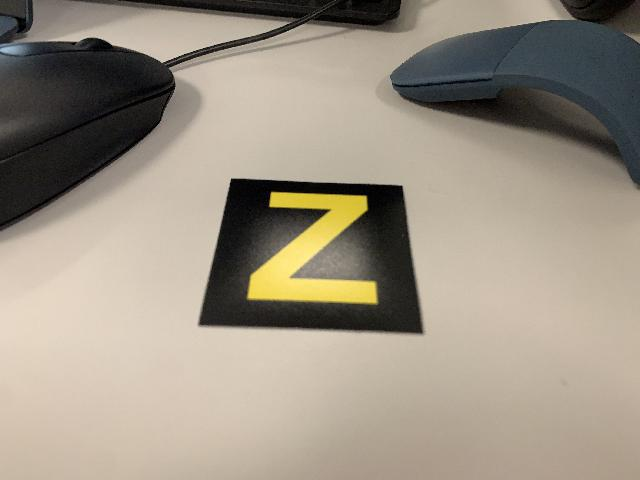z: (196, 176, 431, 338)
